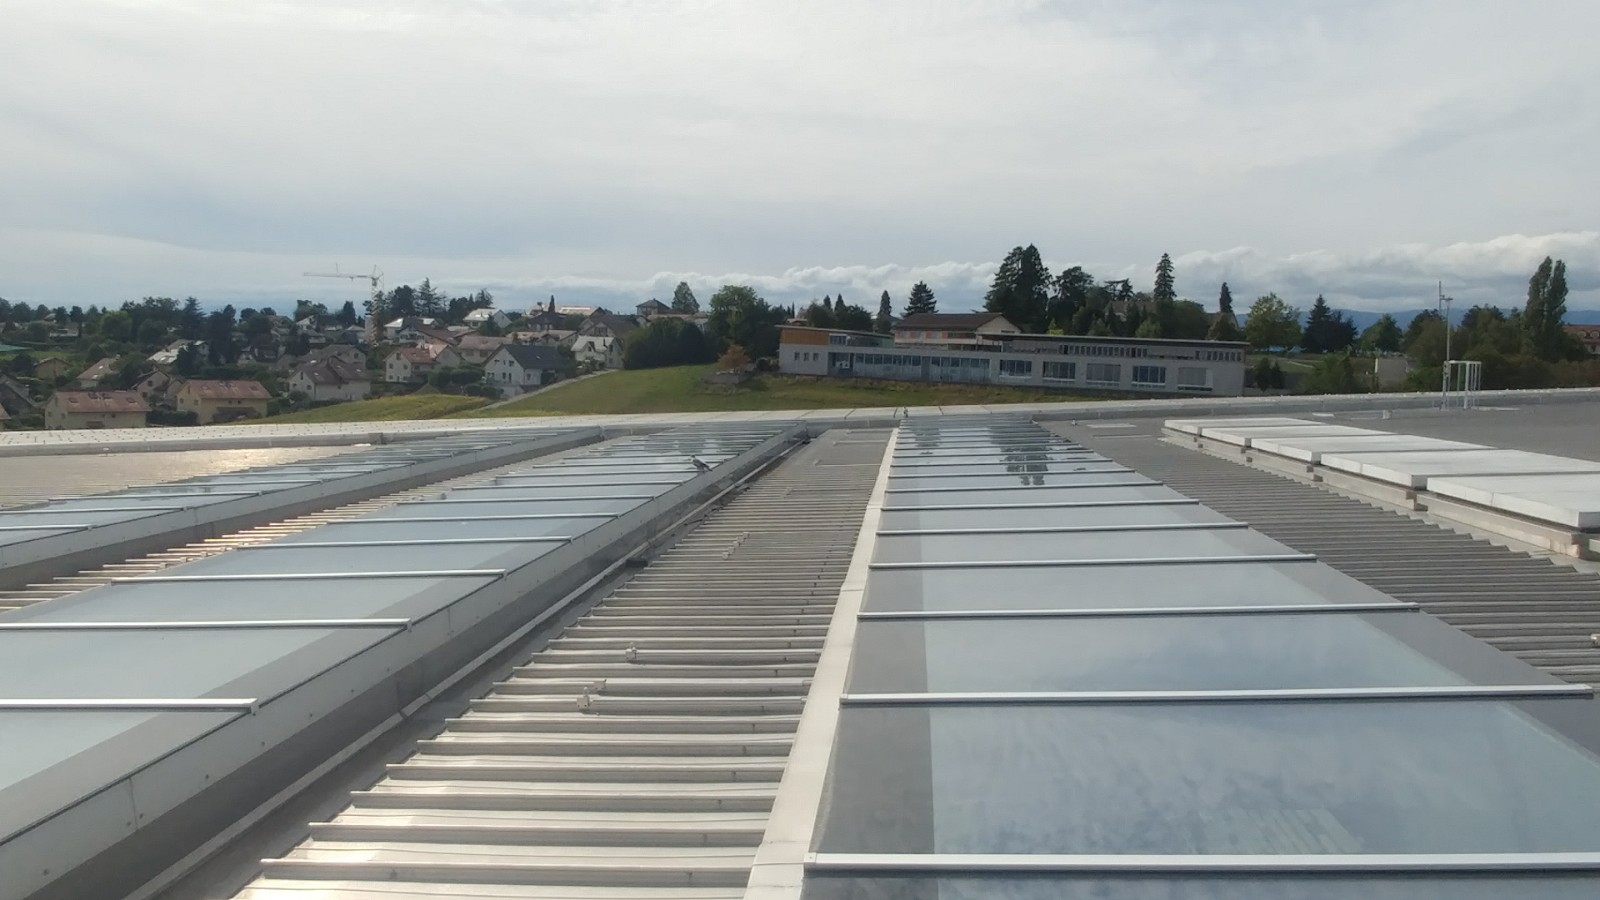Pigeon: (686, 454, 718, 476)
